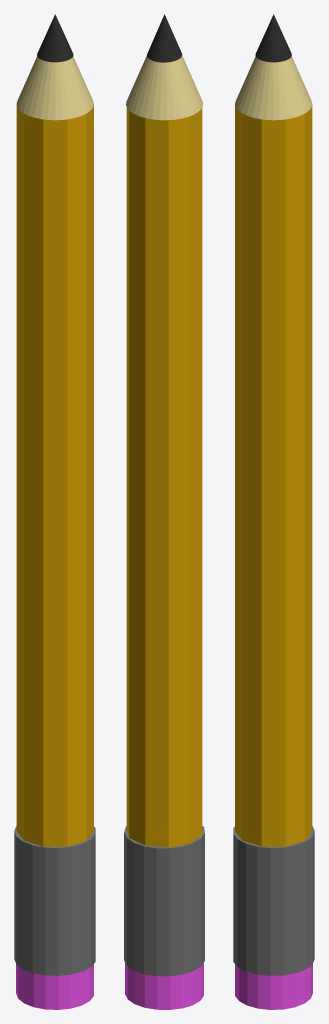
Rendered from pencil1.fbx.
The picture shows the model from 3 angles, left to right: view 1: azimuth 90°, elevation 25°; view 2: azimuth 150°, elevation 25°; view 3: azimuth 270°, elevation 25°; orthographic projection.
Visible parts, largest first — view 1: Cylinder, Cylinder.001, Cone, Cylinder.002, Cone.001; view 2: Cylinder, Cylinder.001, Cone, Cylinder.002, Cone.001; view 3: Cylinder, Cylinder.001, Cone, Cylinder.002, Cone.001.
Boxes of the visible parts, x1=… form: Cylinder: x1=16, y1=104, x2=93, y2=846; Cylinder.001: x1=14, y1=826, x2=95, y2=975; Cone: x1=16, y1=56, x2=93, y2=120; Cylinder.002: x1=16, y1=964, x2=93, y2=1009; Cone.001: x1=37, y1=14, x2=73, y2=62; Cylinder: x1=126, y1=107, x2=202, y2=847; Cylinder.001: x1=124, y1=826, x2=204, y2=976; Cone: x1=126, y1=55, x2=202, y2=120; Cylinder.002: x1=125, y1=962, x2=203, y2=1009; Cone.001: x1=147, y1=14, x2=182, y2=62; Cylinder: x1=235, y1=104, x2=312, y2=846; Cylinder.001: x1=233, y1=826, x2=314, y2=975; Cone: x1=235, y1=56, x2=312, y2=120; Cylinder.002: x1=235, y1=964, x2=312, y2=1009; Cone.001: x1=255, y1=14, x2=291, y2=62.
Size of the model in its own units: 35.34 by 475 by 35.88.
